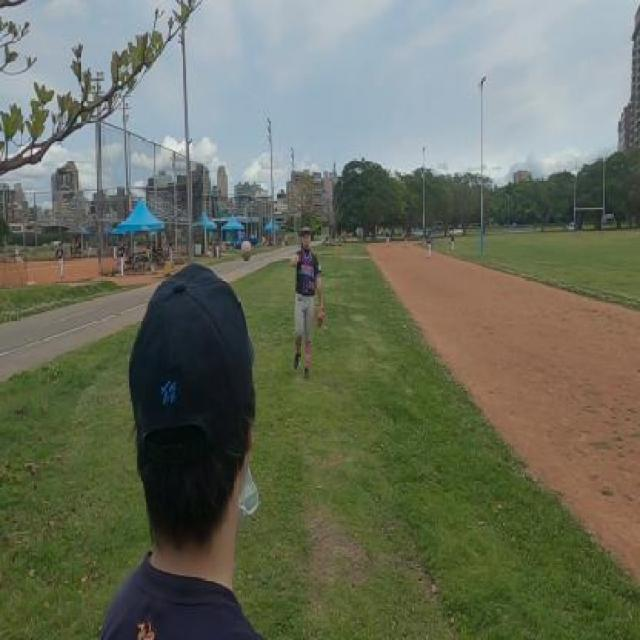baseball: (240, 239, 252, 261)
